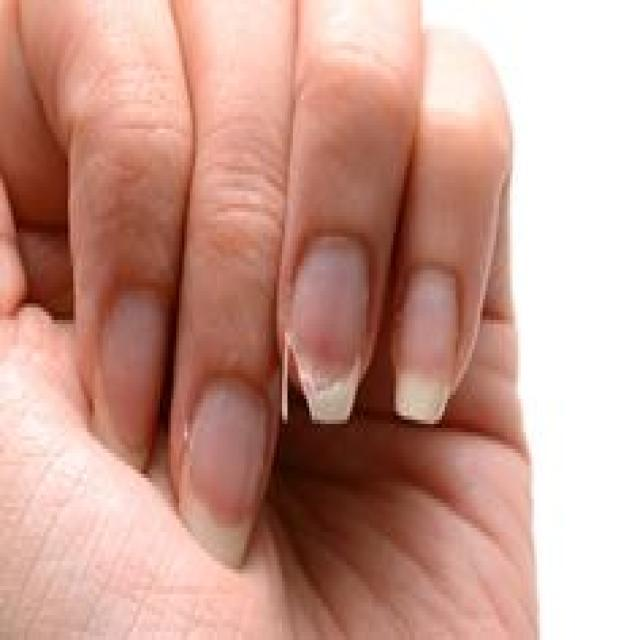Fingernail: (175, 382, 273, 576), (283, 237, 374, 425), (93, 291, 171, 473), (396, 267, 461, 426)
